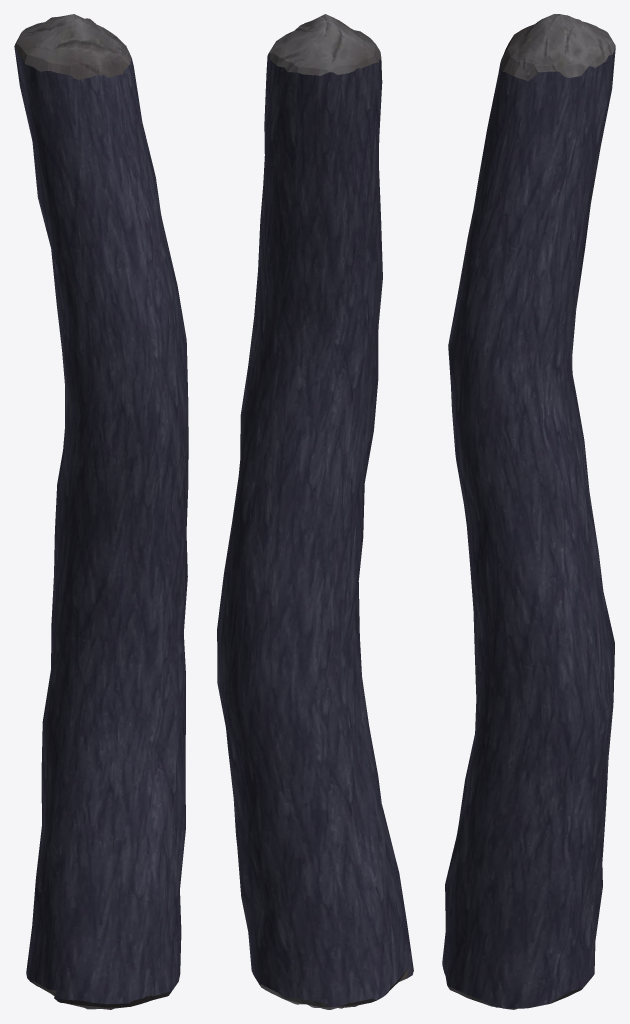
The picture shows the model from 3 angles, left to right: view 1: azimuth 30°, elevation 25°; view 2: azimuth 150°, elevation 25°; view 3: azimuth 270°, elevation 25°; orthographic projection. The views are drawn at different scales.
Parts seen in each view (by area): view 1: SM_Willow_03_half_mid_LOD0; view 2: SM_Willow_03_half_mid_LOD0; view 3: SM_Willow_03_half_mid_LOD0.
Boxes of the visible parts, box(x1,y1,x2,y2) form: SM_Willow_03_half_mid_LOD0: box(14, 14, 188, 1009); SM_Willow_03_half_mid_LOD0: box(217, 14, 413, 1009); SM_Willow_03_half_mid_LOD0: box(442, 14, 615, 1009).
Bounding box in the file's own units: 0.8242 × 5.15 × 0.8239.
1 material, 1 textured.
